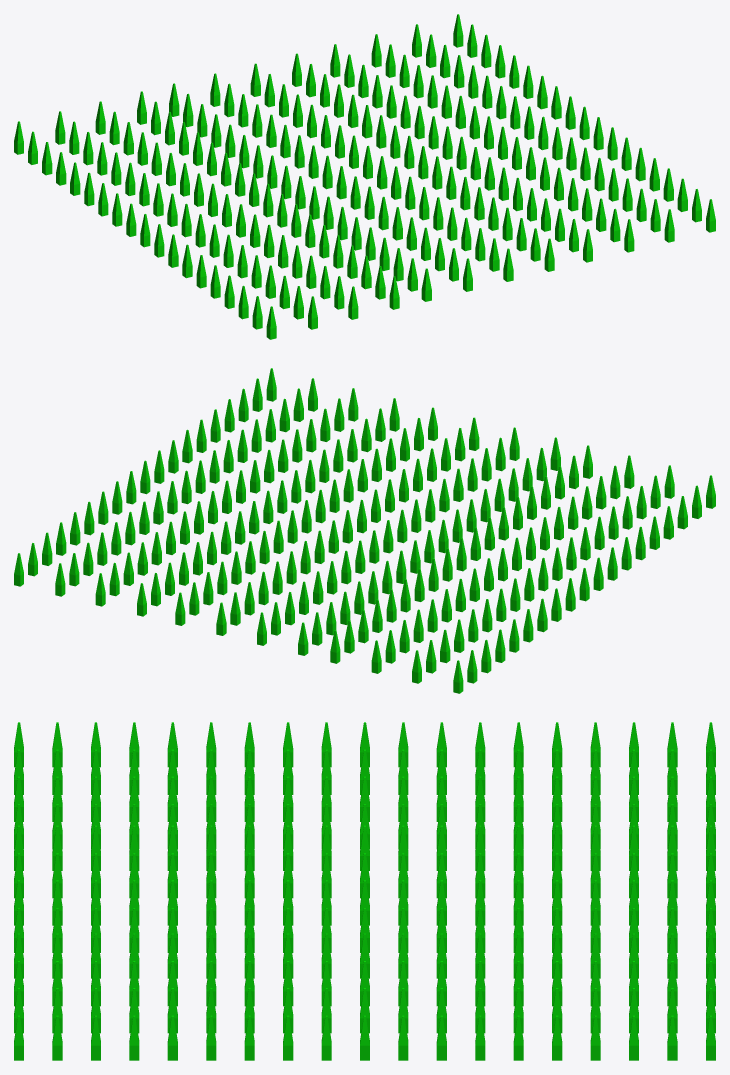
Rendered from broto.fbx.
3 renders of one model, top to bottom at view 1: azimuth 30°, elevation 25°; view 2: azimuth 150°, elevation 25°; view 3: azimuth 270°, elevation 25°, orthographic. The views are drawn at different scales.
Parts seen in each view (by area): view 1: broto; view 2: broto; view 3: broto.
Boxes of the visible parts, box(x1,y1,x2,y2) form: broto: box(14, 14, 715, 339); broto: box(14, 368, 715, 693); broto: box(14, 722, 715, 1060).
Bounding box in the file's own units: 1832 × 122 × 1826.
